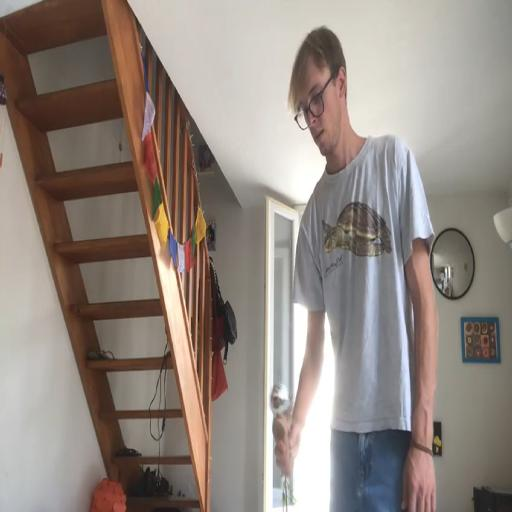kendama_ball: (270, 383, 289, 415)
